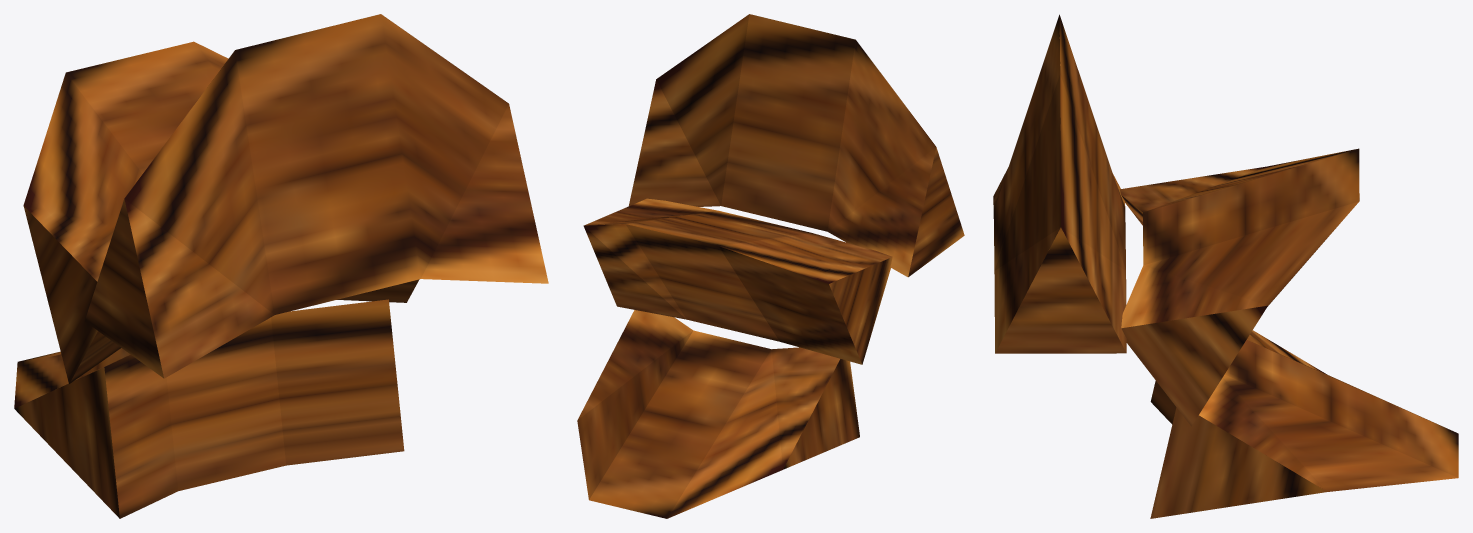
File: hair_female_07.dae
3 views of the same model, side by side, from view 1: azimuth 30°, elevation 25°; view 2: azimuth 150°, elevation 25°; view 3: azimuth 270°, elevation 25° (orthographic). The views are drawn at different scales.
Parts seen in each view (by area): view 1: a_hair_female_07; view 2: a_hair_female_07; view 3: a_hair_female_07.
Part boxes in pixels (left/top/right/bottom): a_hair_female_07: left=14, top=14, right=548, bottom=518; a_hair_female_07: left=577, top=14, right=964, bottom=518; a_hair_female_07: left=993, top=14, right=1458, bottom=518.
Size of the model in its own units: 0.4713 by 0.5889 by 0.5874.
